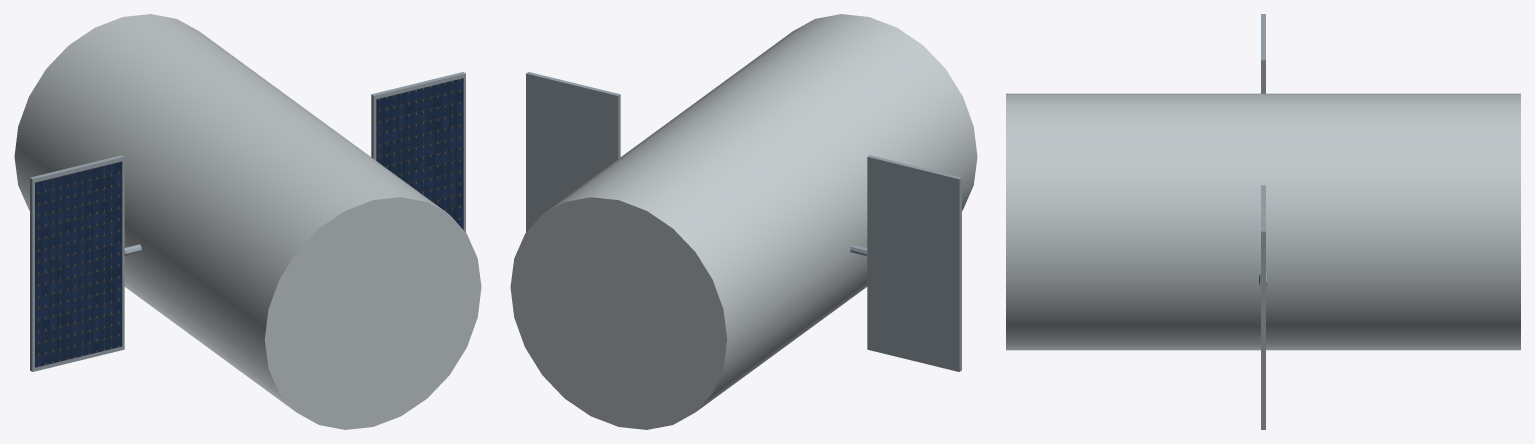
File: ref-mars-5221.glb
The picture shows the model from 3 angles, left to right: view 1: azimuth 30°, elevation 25°; view 2: azimuth 150°, elevation 25°; view 3: azimuth 270°, elevation 25°; orthographic projection. The views are drawn at different scales.
Parts seen in each view (by area): view 1: Spacecraft body, Photovoltaic laminates (×2), Array frame (×2); view 2: Spacecraft body, Array frame (×2); view 3: Spacecraft body, Array frame.
Boxes of the visible parts, box(x1,y1,x2,y2) form: Spacecraft body: box(14, 14, 481, 429); Photovoltaic laminates (×2): box(35, 78, 463, 367); Array frame (×2): box(30, 72, 465, 371); Spacecraft body: box(510, 14, 977, 429); Array frame (×2): box(526, 72, 961, 371); Spacecraft body: box(1006, 93, 1520, 350); Array frame: box(1261, 185, 1265, 429).
Bounding box in the file's own units: 5.8 × 2.9 × 5.8.
Materials: 3 (1 with a texture image).
